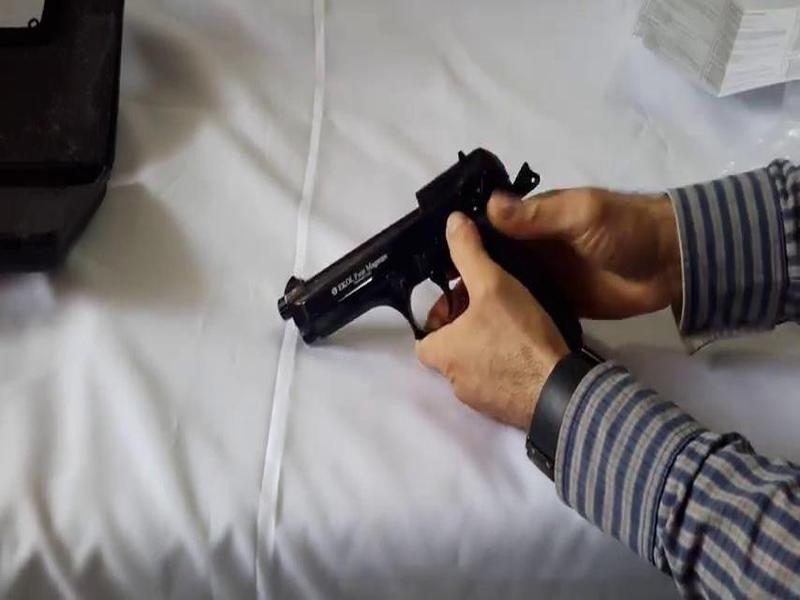Pistola: (282, 179, 579, 370)
